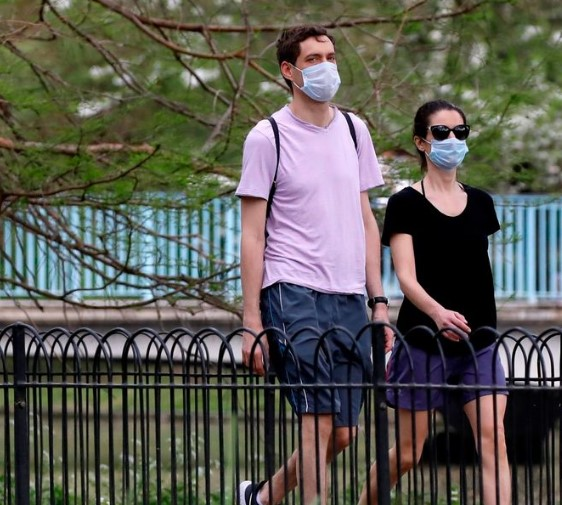face_with_mask: (278, 23, 342, 103), (414, 100, 473, 174)
